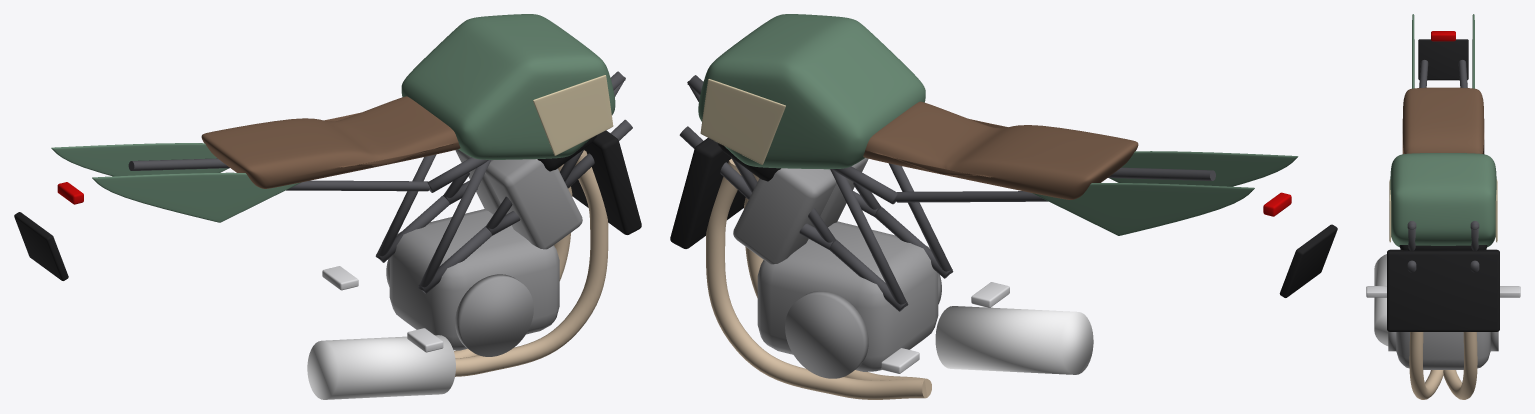
Rendered from STRADA700_Telaio.glb.
3 renders of one model, left to right at view 1: azimuth 30°, elevation 25°; view 2: azimuth 150°, elevation 25°; view 3: azimuth 270°, elevation 25°, orthographic. The views are drawn at different scales.
Visible parts, largest first — view 1: STRADA700_Telaio; view 2: STRADA700_Telaio; view 3: STRADA700_Telaio.
Boxes of the visible parts, <box> form: STRADA700_Telaio: <box>14,14,641,399</box>; STRADA700_Telaio: <box>670,14,1337,399</box>; STRADA700_Telaio: <box>1366,14,1520,399</box>.
Size of the model in its own units: 1.58 by 0.8453 by 0.49.
